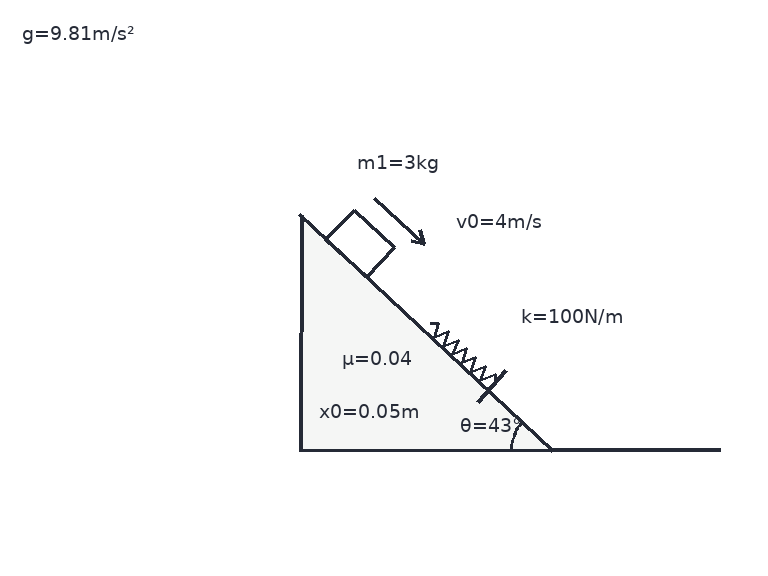block: (324, 207, 396, 279)
ramp: (298, 213, 553, 451)
spring: (427, 320, 497, 386)
